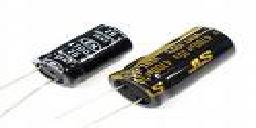Electrolytic-Capacitor: (108, 24, 235, 125), (30, 21, 138, 93)
